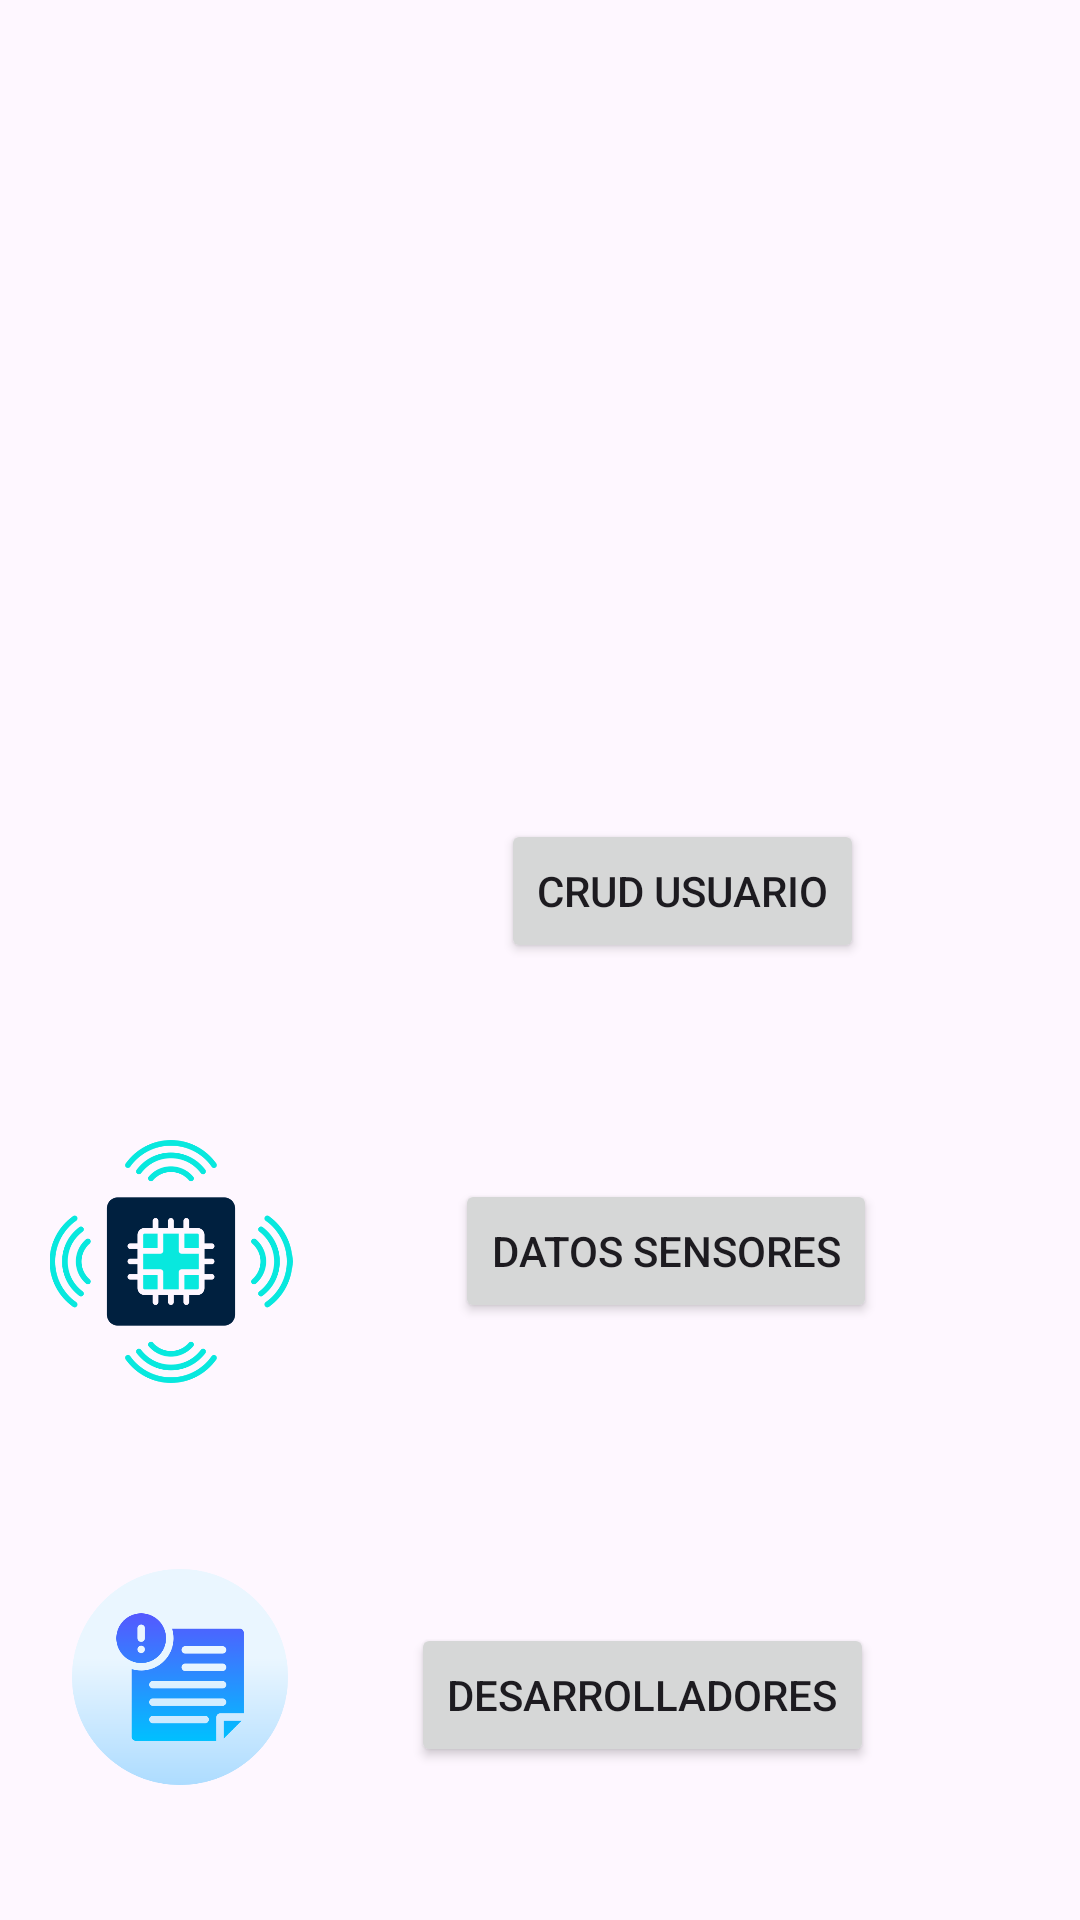

Locate icon controls on the screen. Image size 1080×1920, boxes as (x1, y1, x2, y2).
informacion: (72, 1613, 288, 1785)
sensor: (50, 1140, 293, 1383)
